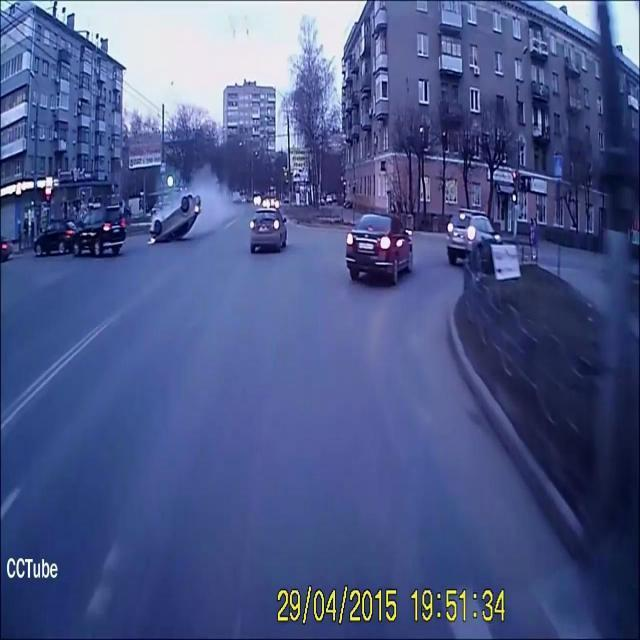severe: (146, 185, 204, 248)
